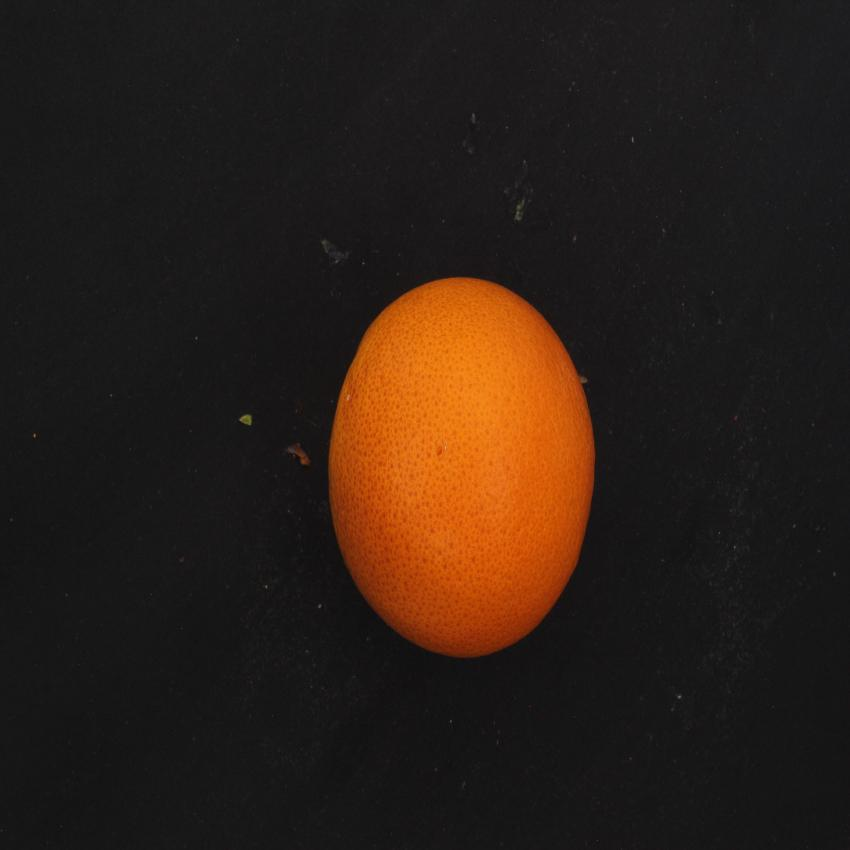Buen estado: (322, 266, 604, 672)
